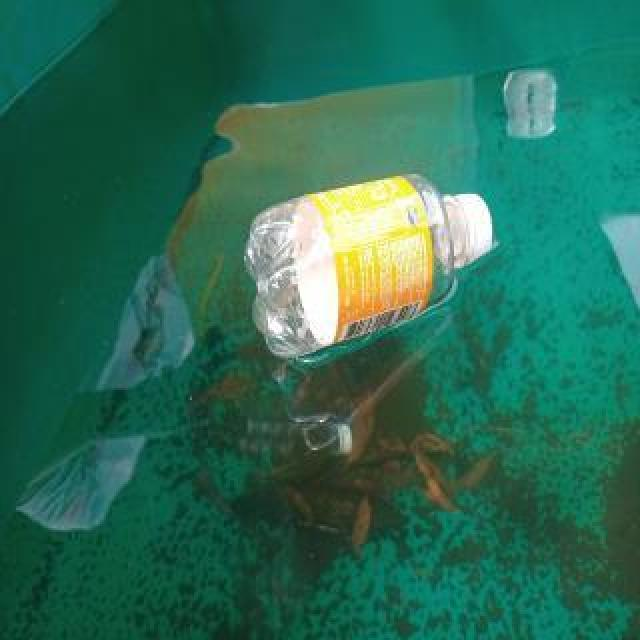bottle: (238, 169, 500, 363)
